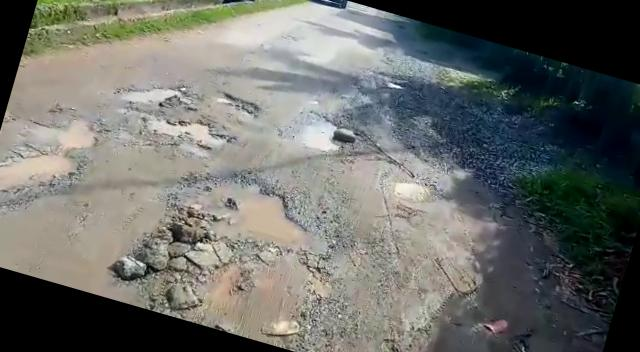pothole: (162, 156, 344, 268), (0, 136, 83, 221), (138, 105, 238, 155), (110, 68, 183, 115), (291, 108, 349, 160), (211, 88, 268, 124), (56, 118, 100, 154)
